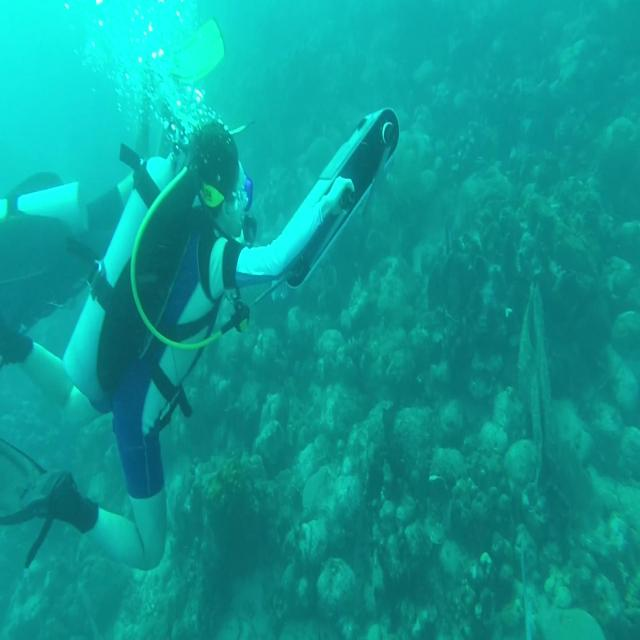human: (1, 104, 398, 572), (0, 43, 220, 360)
